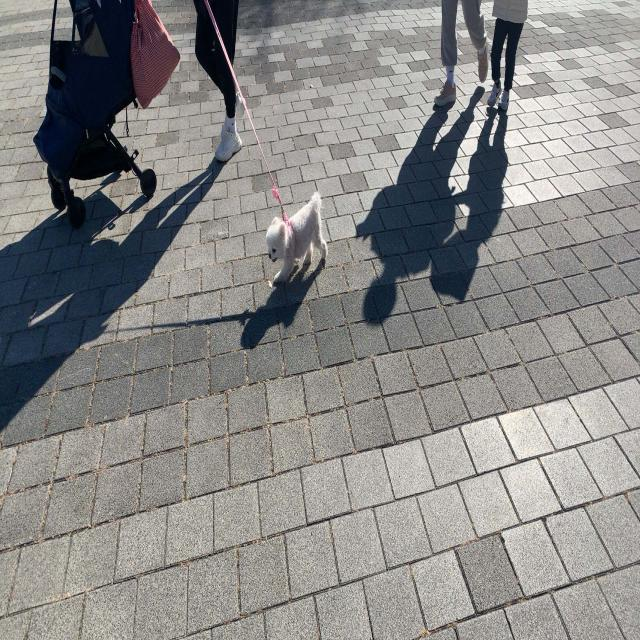Leashed_Dog: (215, 22, 328, 284)
